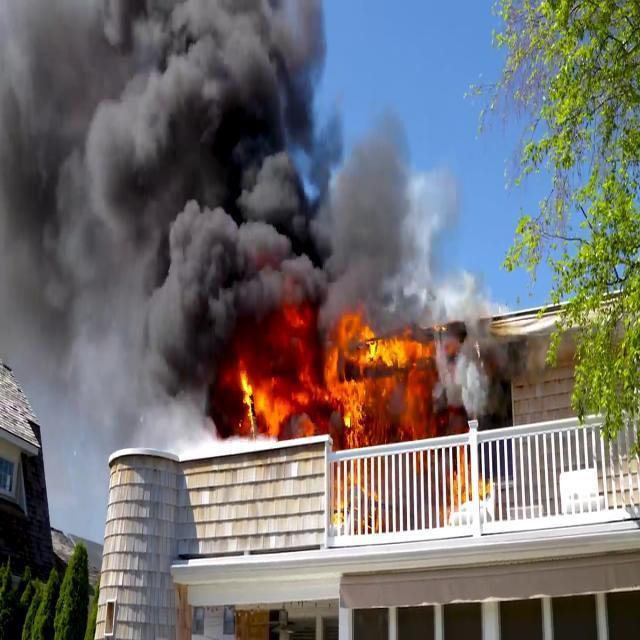Fire: (238, 307, 432, 459)
Smoke: (0, 0, 410, 371), (422, 278, 522, 442)
